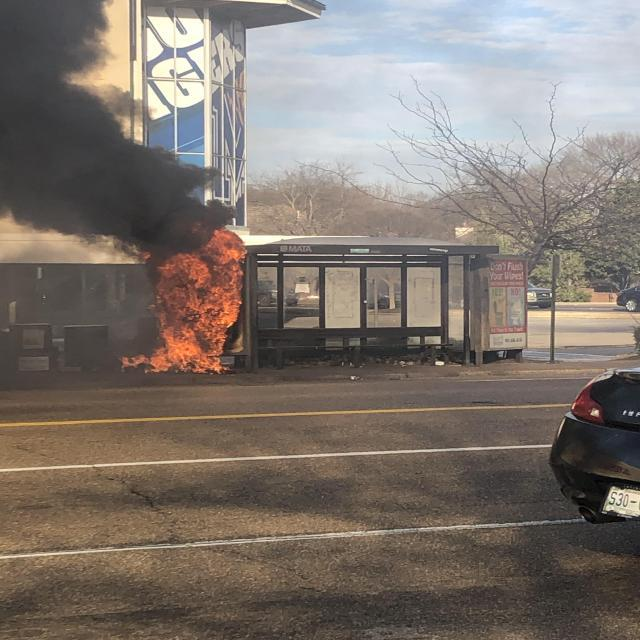Fire: (123, 233, 244, 372)
Smoke: (0, 0, 228, 253)
